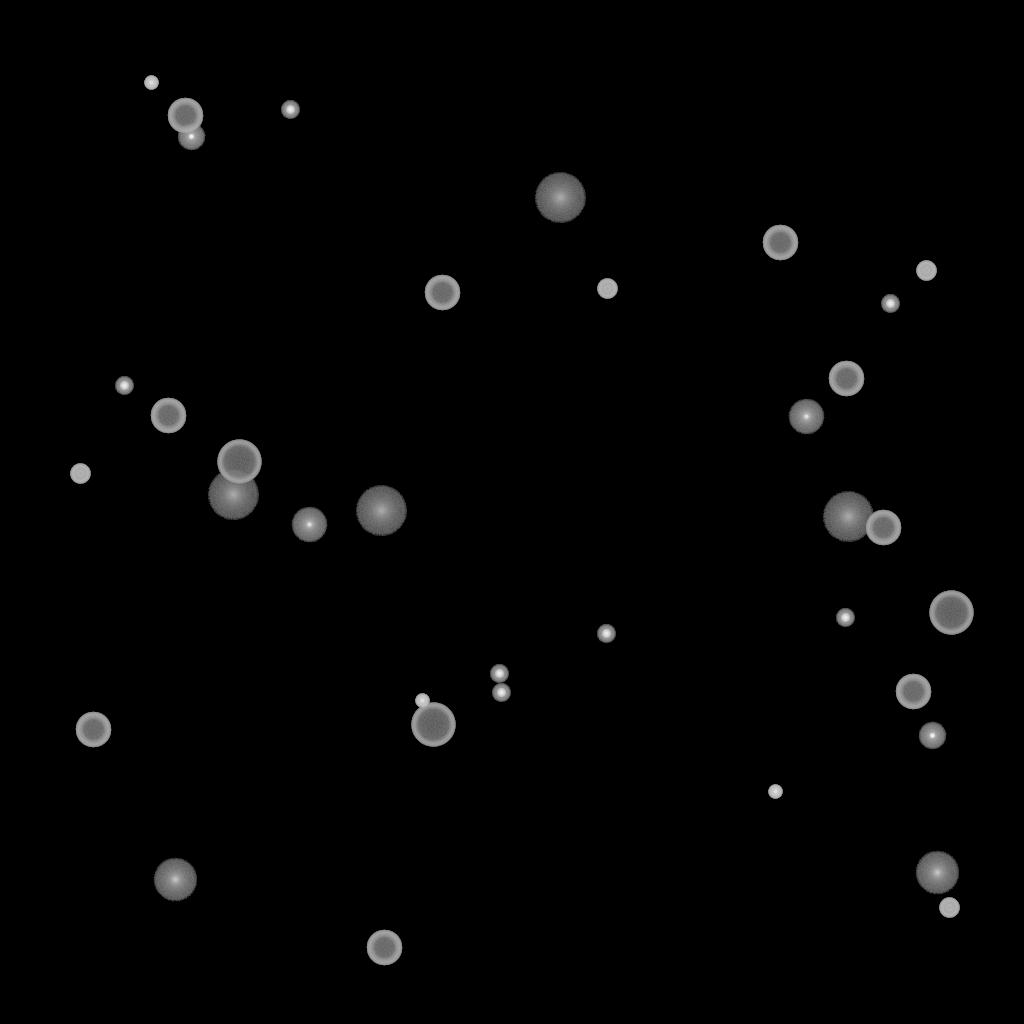depth:-10: (918, 722, 946, 750), (177, 123, 205, 151)
depth:-20: (115, 377, 133, 395), (881, 295, 899, 313), (281, 101, 299, 119), (597, 625, 615, 643), (836, 609, 854, 627), (490, 665, 508, 683), (492, 684, 510, 702)
depth:-30: (415, 694, 429, 708), (144, 76, 158, 90), (768, 785, 782, 799)
depth:-40: (70, 464, 90, 484), (939, 898, 959, 918), (916, 261, 936, 281), (597, 279, 617, 299)
depth:-60: (762, 225, 798, 261), (75, 712, 111, 748), (366, 930, 402, 966), (424, 275, 460, 311), (167, 98, 203, 134), (150, 398, 186, 434), (895, 674, 931, 710), (828, 361, 864, 397), (865, 510, 901, 546)
depth:-70: (929, 591, 973, 635), (411, 703, 455, 747), (217, 440, 261, 484)
depth:0: (291, 507, 327, 543), (788, 399, 824, 435)
depth:10: (915, 851, 959, 895), (153, 858, 197, 902)
depth:20: (822, 492, 874, 542), (207, 470, 259, 520), (355, 486, 407, 536), (534, 173, 586, 223)
